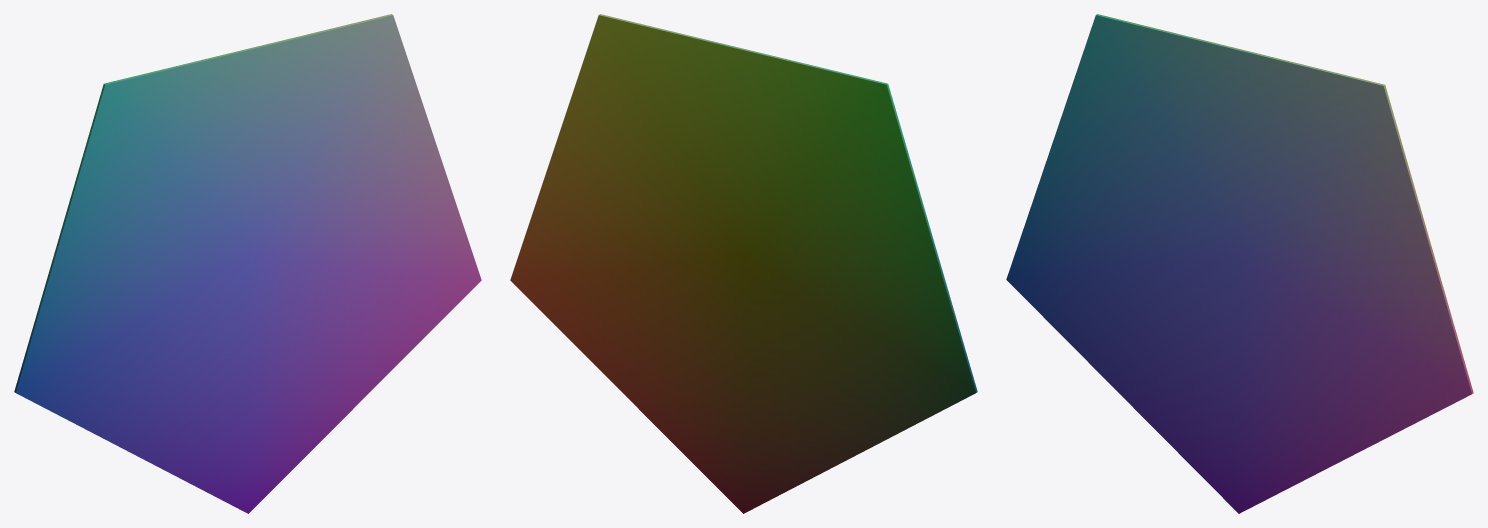
The model's file is zeometry-flat-shapes-flat-polygon_v2.glb.
The picture shows the model from 3 angles, left to right: view 1: azimuth 30°, elevation 25°; view 2: azimuth 150°, elevation 25°; view 3: azimuth 330°, elevation 25°; orthographic projection.
Visible parts, largest first — view 1: Flat Polygon_v2; view 2: Flat Polygon_v2; view 3: Flat Polygon_v2.
Boxes of the visible parts, x1,y1,x2,y2 form: Flat Polygon_v2: (14, 14, 481, 513); Flat Polygon_v2: (510, 14, 977, 513); Flat Polygon_v2: (1006, 14, 1473, 513).
Bounding box in the file's own units: 0.5 × 0.4758 × 0.00294.
